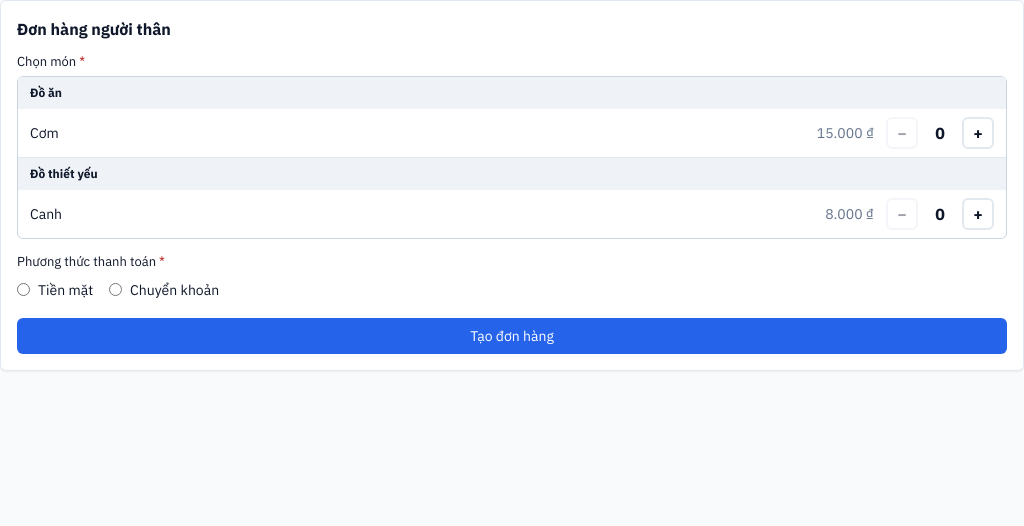
Test: RelativeOrderForm — validation › requires a payment method
What coordinates should you click on to do the following:
click the button "+" in the row of "15.000 ₫"
I would click on:
 (978, 133)
Its box is [962,117,994,149].
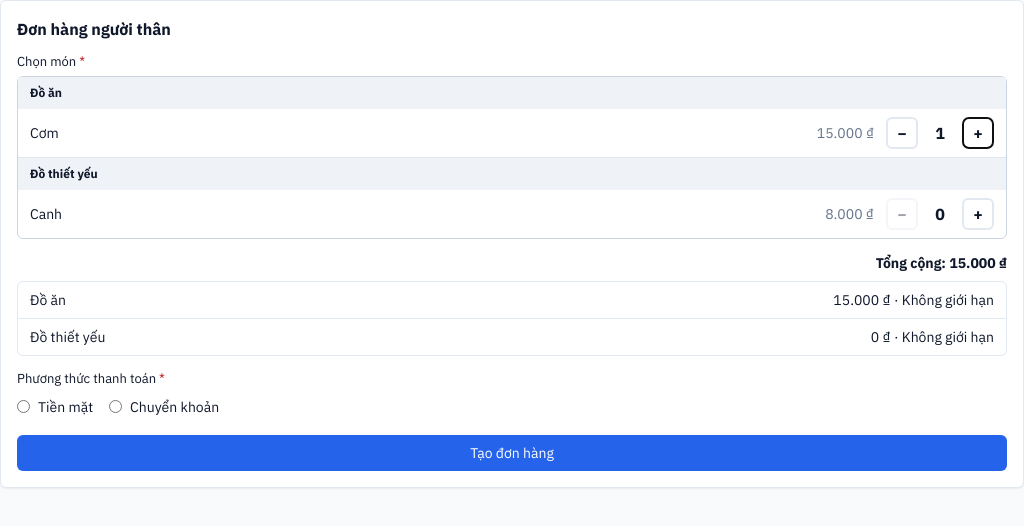
What coordinates should you click on to do the following:
click the button "Tạo đơn hàng"
I would click on:
 (512, 453)
Its box is [17,435,1007,471].
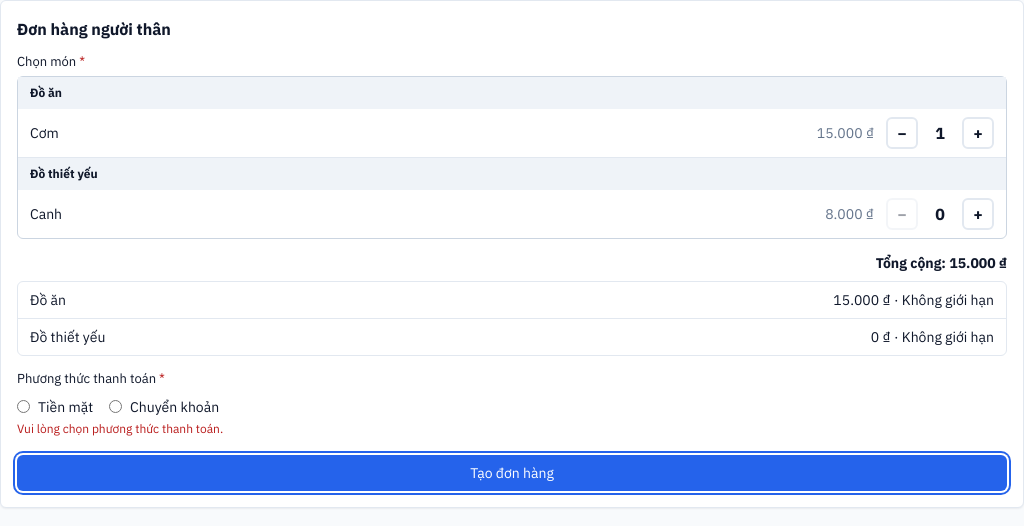
Now the text "Vui lòng chọn phương thức thanh toán." is shown, box [17,421,223,436]
